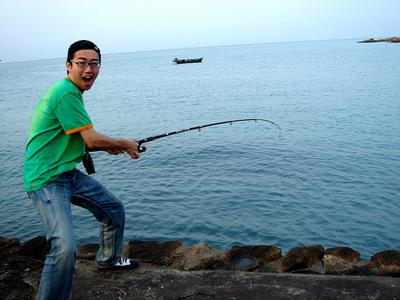person: (24, 40, 139, 300)
